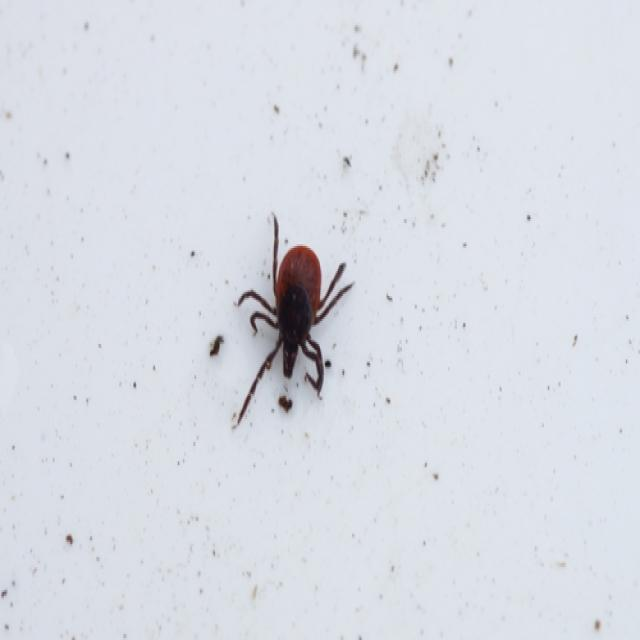Ixodes Ricinus-F: (234, 215, 355, 423)
